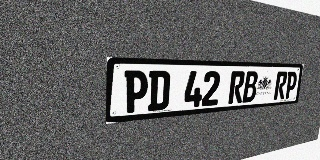2: (201, 71, 221, 106)
4: (183, 71, 204, 108)
B: (242, 71, 259, 103)
D: (147, 71, 171, 111)
P: (123, 70, 148, 113), (284, 72, 298, 99)
R: (228, 71, 245, 104), (273, 71, 288, 100)
